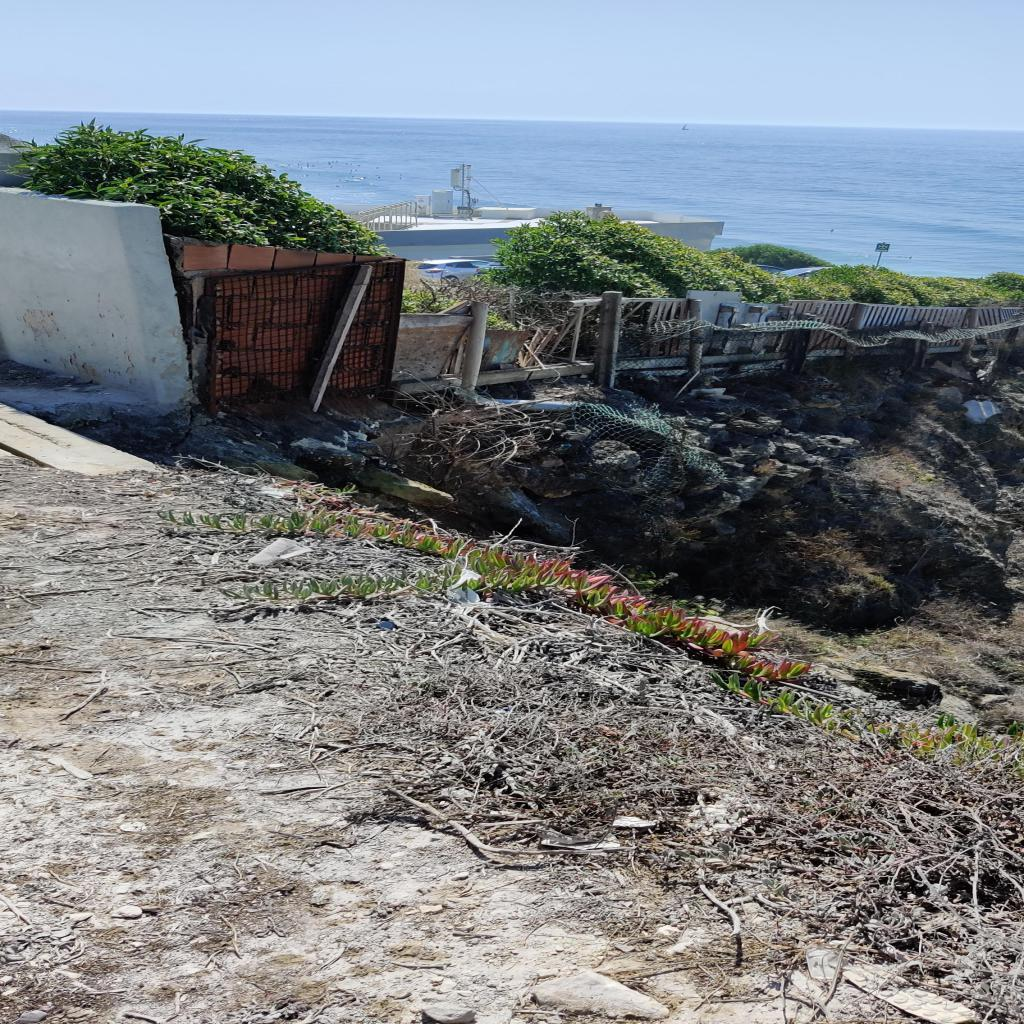Aluminium blister pack: (842, 968, 983, 1024)
Disposable plastic cup: (248, 538, 314, 564)
Metal bottle cap: (378, 622, 396, 628)
Unlabeled litter: (806, 939, 861, 979), (446, 569, 489, 606), (540, 834, 622, 850)
